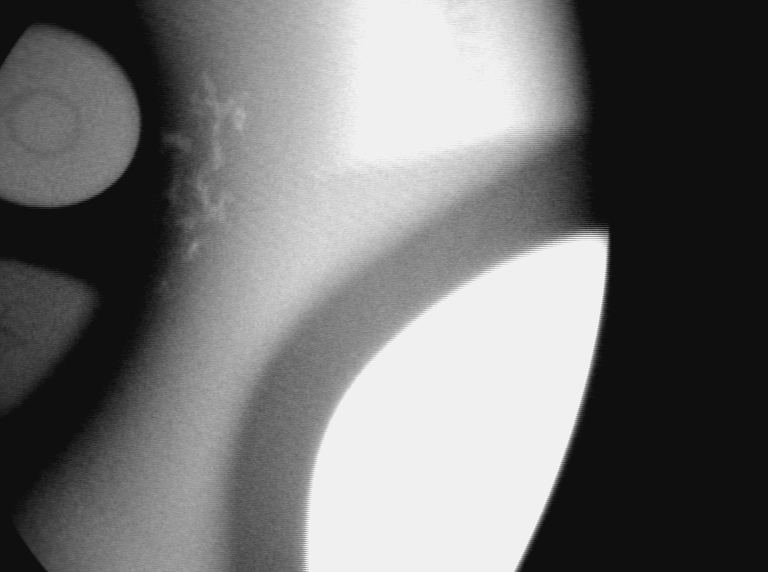defect: (154, 267, 179, 298)
